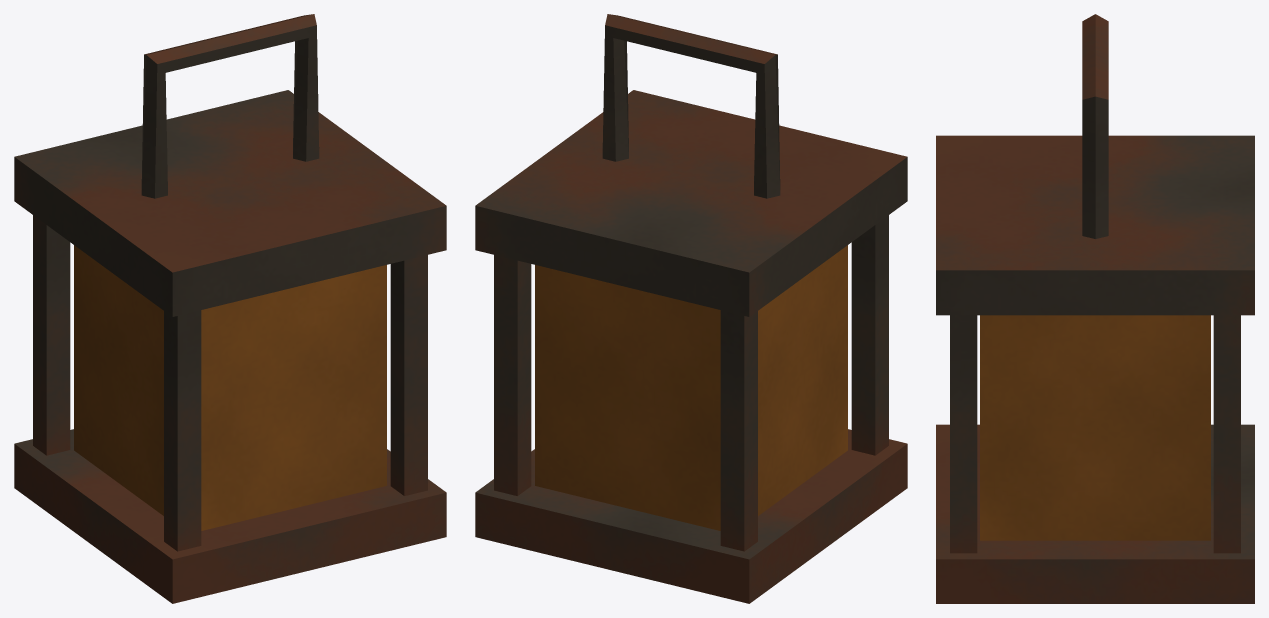
File: Lantern.glb
3 renders of one model, left to right at view 1: azimuth 30°, elevation 25°; view 2: azimuth 150°, elevation 25°; view 3: azimuth 270°, elevation 25°, orthographic.
Parts seen in each view (by area): view 1: Lantern; view 2: Lantern; view 3: Lantern.
Part boxes in pixels (x1,y1,x2,y2): Lantern: (14, 14, 446, 603); Lantern: (475, 14, 907, 603); Lantern: (936, 14, 1254, 603).
Size of the model in its own units: 0.29 by 0.4834 by 0.29.
Materials: 2 (2 with a texture image).
